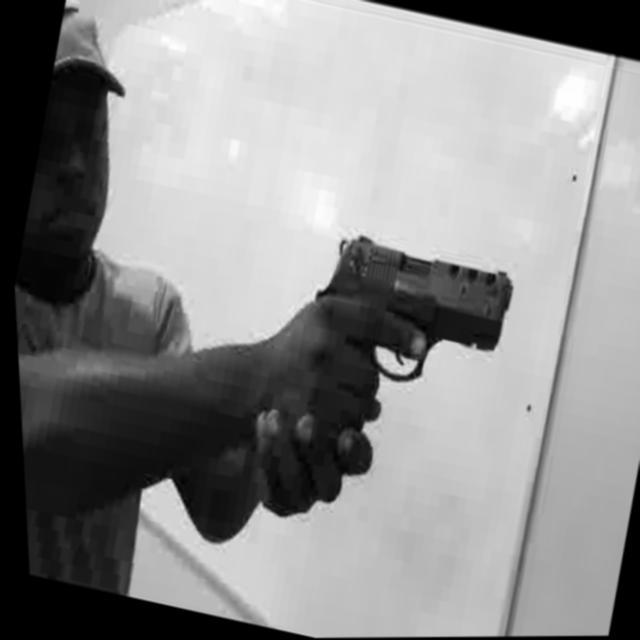weapon: (286, 222, 520, 412)
